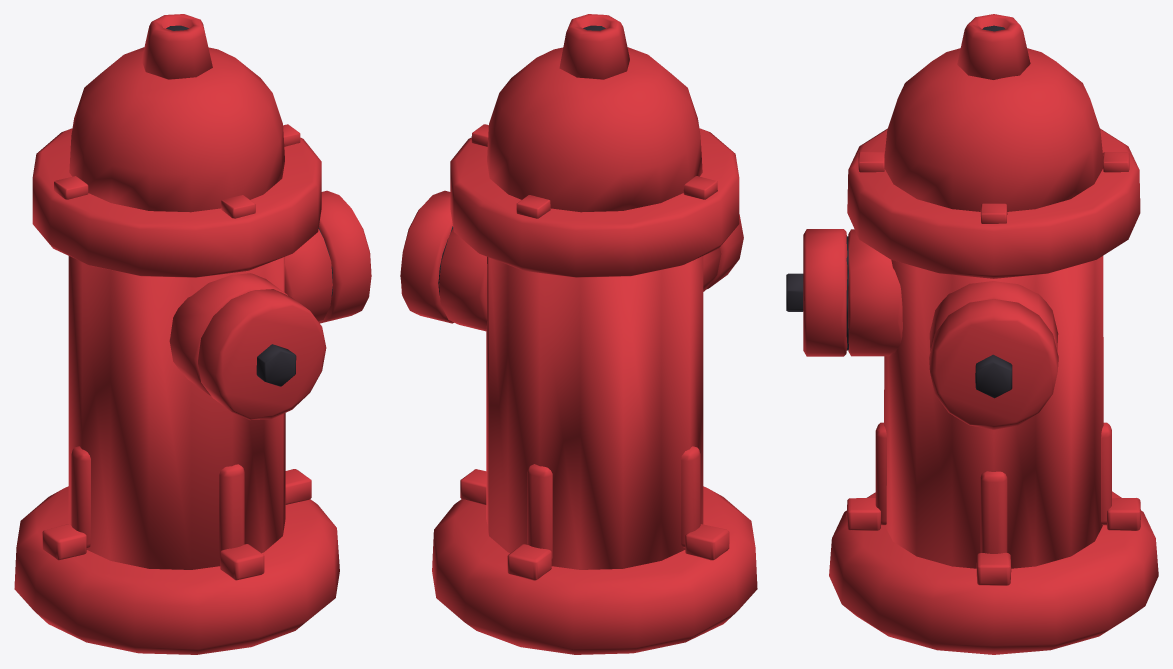
File: prop.fire-hydrant.lod1.glb
3 views of the same model, side by side, from view 1: azimuth 30°, elevation 25°; view 2: azimuth 150°, elevation 25°; view 3: azimuth 270°, elevation 25° (orthographic).
Visible parts, largest first — view 1: body, object 1; view 2: body; view 3: body, object 1.
Part boxes in pixels (x1,y1,x2,y2): body: (14, 14, 371, 654); object 1: (166, 25, 332, 386); body: (400, 14, 757, 654); body: (803, 14, 1158, 654); object 1: (786, 25, 1012, 398).
Bounding box in the file's own units: 0.6431 × 1.08 × 0.6431.
